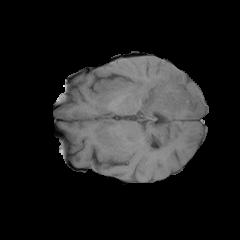glioma: (94, 57, 200, 144)
